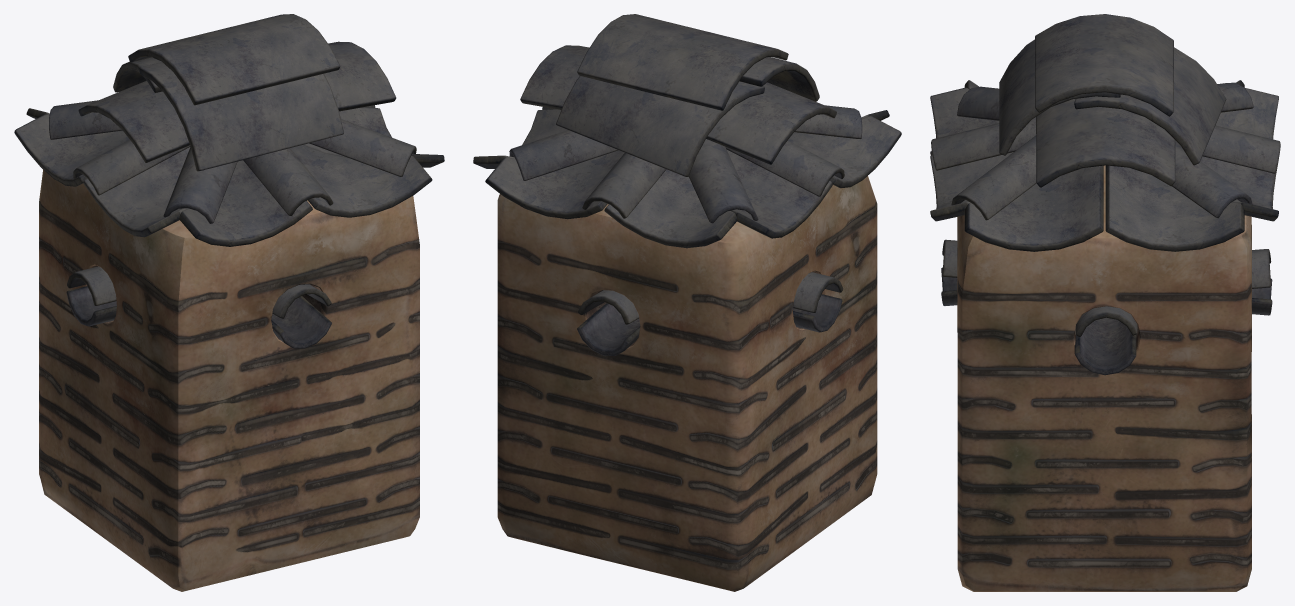
The model's file is SM_JWD_Chimney.fbx.
The picture shows the model from 3 angles, left to right: view 1: azimuth 30°, elevation 25°; view 2: azimuth 150°, elevation 25°; view 3: azimuth 270°, elevation 25°; orthographic projection. The views are drawn at different scales.
Parts seen in each view (by area): view 1: SM_JWD_Chimney; view 2: SM_JWD_Chimney; view 3: SM_JWD_Chimney.
Part boxes in pixels (<box>): SM_JWD_Chimney: <box>14,14,444,591</box>; SM_JWD_Chimney: <box>473,14,901,591</box>; SM_JWD_Chimney: <box>930,14,1280,591</box>.
Size of the model in its own units: 67.32 by 67.46 by 104.
Materials: 1 (1 with a texture image).
